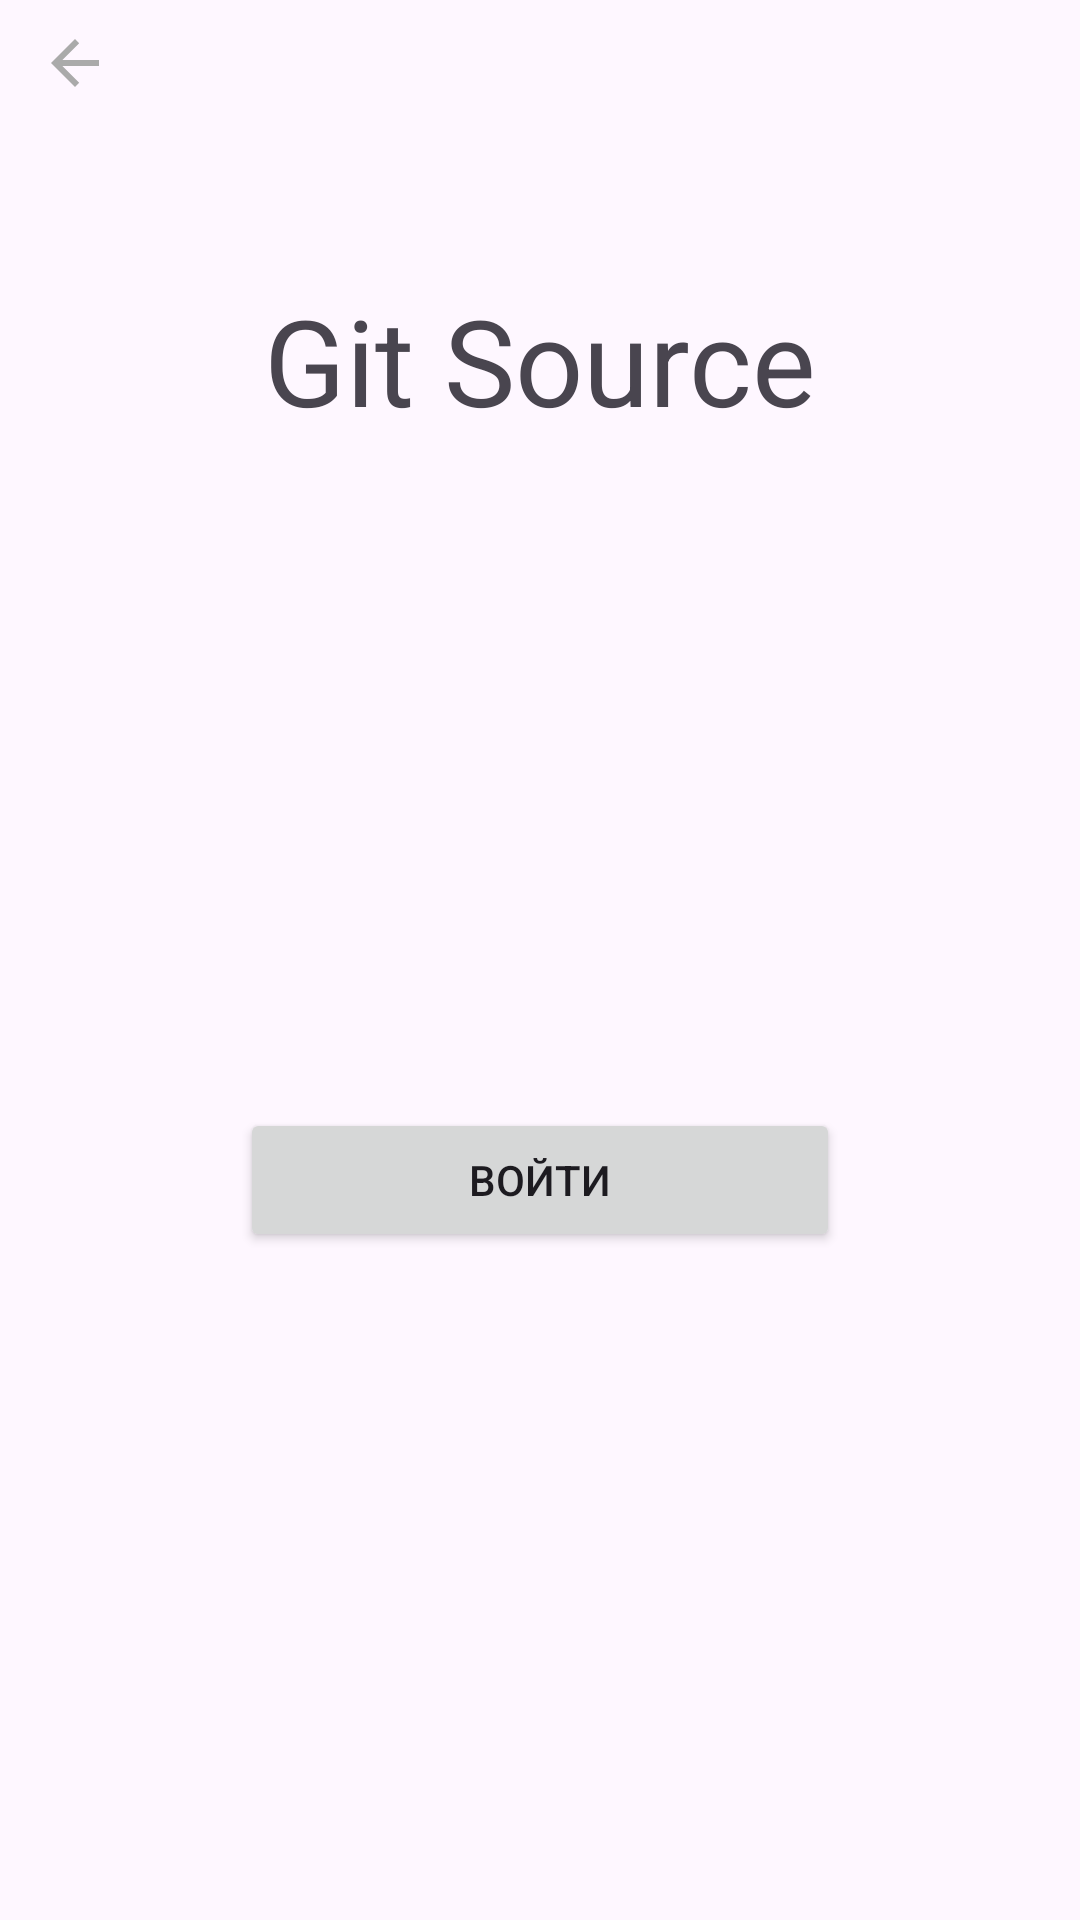

Icon bounding boxes for this 1080px x 1920px phone screenshot, format rect(x1, y1, x2, y2):
Назад: rect(51, 39, 99, 87)
